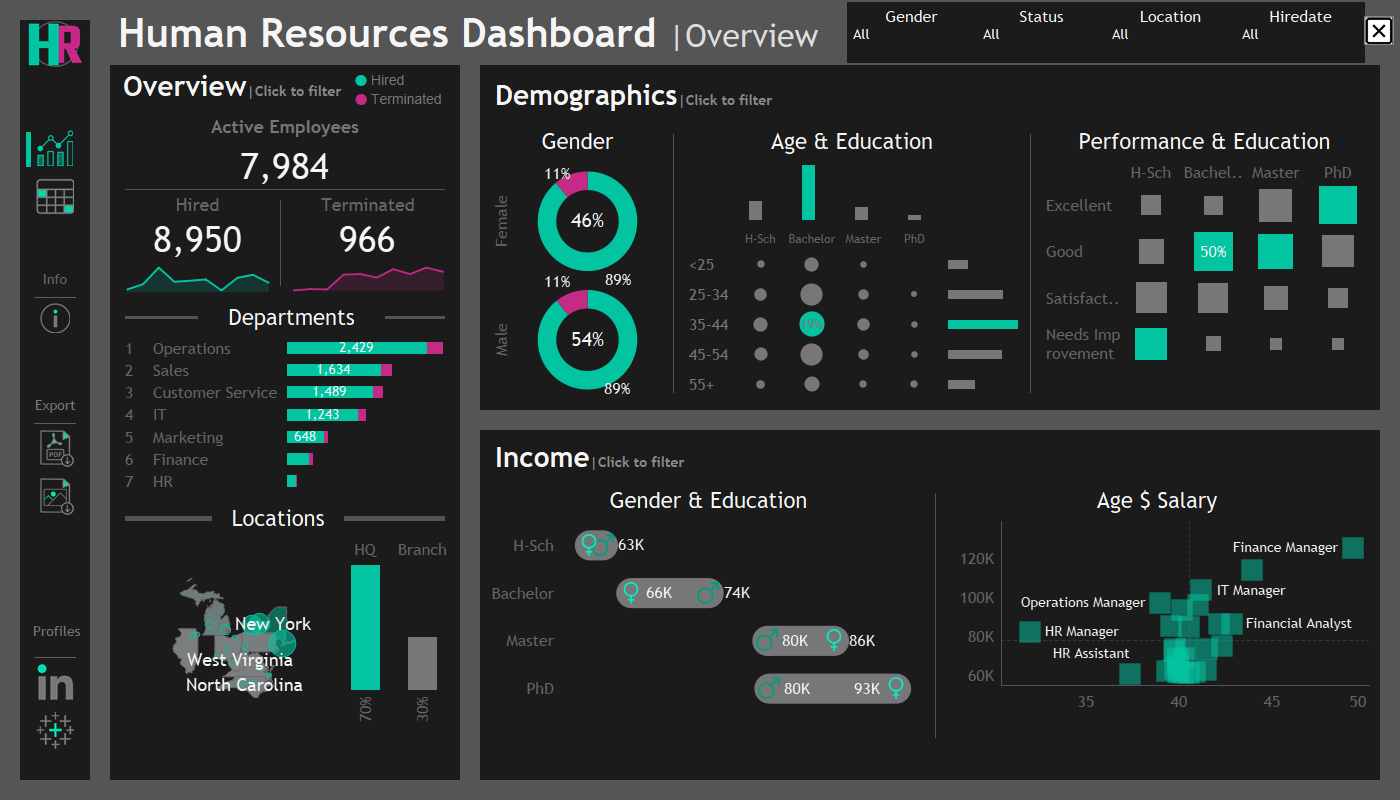

Layout of this report page (visuals, bound fields, positions):
{"tool":"tableau","page":{"name":"HR Summary","canvas":[1400,800],"ordinal":1},"visuals":[{"type":"text","box":[110,0,806,65]},{"type":"blank","box":[110,0,1271,242]},{"type":"blank","box":[916,0,464,65]},{"type":"filter","title":"Gender vs Education Level","param":"[federated.0ub95s50uokzi11g74zxb0s4wjce].[none:Gender:nk]","box":[847,2,129.5,61]},{"type":"filter","title":"Gender vs Education Level","param":"[federated.0ub95s50uokzi11g74zxb0s4wjce].[none:Calculation_681450935881695232:nk","box":[976.5,2,129.5,61]},{"type":"filter","title":"Gender vs Education Level","param":"[federated.0ub95s50uokzi11g74zxb0s4wjce].[none:Calculation_534520996257099781:nk","box":[1106,2,129.5,61]},{"type":"filter","title":"Gender vs Education Level","param":"[federated.0ub95s50uokzi11g74zxb0s4wjce].[yr:Hiredate:ok]","box":[1235.5,2,129.5,61]},{"type":"dashboard-object","box":[1364,16,30,29]},{"type":"image","param":"E:/DS/Projects/Tableau project/Tableau-HR-Project-Materials/HR Dashboard VJ.twb ","box":[20,20,70,47]},{"type":"text","box":[115,70,340,32]},{"type":"text","box":[487,72,886,47]},{"type":"text","box":[351,73,98,37]},{"type":"blank","box":[29,77,52,52]},{"type":"text","box":[115,102,340,44]},{"type":"text","box":[487,124,181,34]},{"type":"blank","box":[673,124,1,279]},{"type":"text","box":[679,124,346,34]},{"type":"blank","box":[1030,124,1,279]},{"type":"text","box":[1036,124,337,34]},{"type":"dashboard-object","box":[29,129,52,38]},{"type":"blank","box":[26,132,5,35]},{"type":"worksheet","title":"BAN Active","mark":"Text","box":[115,146,340,43]},{"type":"worksheet","title":"Gender","mark":"Pie","rows":["Gender"],"cols":["Calculation_534520996286849031","Calculation_534520996286849031"],"box":[487,158,181,245]},{"type":"worksheet","title":"Education Level","mark":"Bar","rows":["Calculation_534520995954655232"],"cols":["Education Level"],"box":[679,158,346,67]},{"type":"worksheet","title":"Education vs Performance","mark":"Square","rows":["Performance Rating"],"cols":["Education Level"],"box":[1036,158,337,213]},{"type":"blank","box":[29,167,52,10]},{"type":"dashboard-object","box":[29,177,52,38]},{"type":"blank","box":[115,189,340,1]},{"type":"text","box":[115,190,165,29]},{"type":"blank","box":[280,190,1,106]},{"type":"text","box":[281,190,173.9,29]},{"type":"blank","box":[29,215,52,52]},{"type":"worksheet","title":"BAN Hired","mark":"Text","box":[115,219,165,42]},{"type":"worksheet","title":"BAN Terminated","mark":"Text","box":[281,219,173.9,42]},{"type":"worksheet","title":"Age vs Education","mark":"Circle","rows":["Calculation_1150106770631680001"],"cols":["Education Level"],"box":[679,225,265,178]},{"type":"worksheet","title":"Age Group","mark":"Bar","rows":["Calculation_1150106770631680001"],"cols":["Calculation_534520995954655232"],"box":[944,225,81,178]},{"type":"text","box":[110,242,1271,315]},{"type":"worksheet","title":"Hired by year","mark":"Line","rows":["Calculation_534520995954655232","Calculation_534520995954655232"],"cols":["Hiredate"],"box":[115,261,165,35]},{"type":"worksheet","title":"Terminated by year","mark":"Line","rows":["Calculation_534520995955412993","Calculation_534520995955412993"],"cols":["Termdate"],"box":[281,261,173.9,35]},{"type":"text","box":[29,267,52,25]},{"type":"blank","box":[29,292,52,11]},{"type":"blank","box":[125,301,73,32]},{"type":"text","box":[198,301,187,32]},{"type":"blank","box":[385,301,60,32]},{"type":"dashboard-object","box":[29,303,52,30]},{"type":"blank","box":[29,333,52,60]},{"type":"worksheet","title":"Departments","mark":"Bar","rows":["Calculation_534520996254621700","Department"],"cols":["Calculation_534520995954655232"],"box":[115,333,340,163]},{"type":"text","box":[29,393,52,25]},{"type":"blank","box":[29,418,52,11]},{"type":"dashboard-object","box":[29,429,52,38]},{"type":"text","box":[487,437,886,41]},{"type":"blank","box":[29,467,52,10]},{"type":"dashboard-object","box":[29,477,52,38]},{"type":"text","box":[487,483,443,34]},{"type":"blank","box":[935,483,1,265]},{"type":"text","box":[941,483,432,34]},{"type":"blank","box":[125,501,87,34]},{"type":"text","box":[212,501,132,34]},{"type":"blank","box":[344,501,101,34]},{"type":"blank","box":[29,515,52,95]},{"type":"worksheet","title":"Gender vs Education Level","mark":"Square","rows":["Education Level"],"cols":["Salary","Salary"],"box":[487,517,443,199]},{"type":"worksheet","title":"Age vs Salary","mark":"Shape","rows":["Salary"],"cols":["Calculation_1150106770625998848"],"box":[941,517,432,199]},{"type":"worksheet","title":"Map State","mark":"Automatic","box":[115,535,218.4,199]},{"type":"worksheet","title":"Location","mark":"Bar","rows":["Calculation_534520995954655232"],"cols":["Calculation_534520996257099781","Calculation1"],"box":[333.4,535,121.6,199]},{"type":"blank","box":[110,557,1271,243]},{"type":"text","box":[29,610,52,42]},{"type":"blank","box":[29,652,52,11]},{"type":"image","param":"E:/DS/Projects/Tableau project/Tableau-HR-Project-Materials/HR Dashboard VJ.twb ","box":[29,663,52,38]},{"type":"blank","box":[29,701,52,10]},{"type":"image","param":"E:/DS/Projects/Tableau project/Tableau-HR-Project-Materials/HR Dashboard VJ.twb ","box":[29,711,52,38]}]}

Visuals, with their boxes in screenshot pixels (x1, y1, x2, y2), scaled from the page's 1400x800 canvas onto the 1400x800 screenshot:
text: box(110, 0, 916, 65)
blank: box(110, 0, 1381, 242)
blank: box(916, 0, 1380, 65)
"Gender vs Education Level" filter: box(847, 2, 976, 63)
"Gender vs Education Level" filter: box(976, 2, 1106, 63)
"Gender vs Education Level" filter: box(1106, 2, 1236, 63)
"Gender vs Education Level" filter: box(1236, 2, 1365, 63)
dashboard-object: box(1364, 16, 1394, 45)
image: box(20, 20, 90, 67)
text: box(115, 70, 455, 102)
text: box(487, 72, 1373, 119)
text: box(351, 73, 449, 110)
blank: box(29, 77, 81, 129)
text: box(115, 102, 455, 146)
text: box(487, 124, 668, 158)
blank: box(673, 124, 674, 403)
text: box(679, 124, 1025, 158)
blank: box(1030, 124, 1031, 403)
text: box(1036, 124, 1373, 158)
dashboard-object: box(29, 129, 81, 167)
blank: box(26, 132, 31, 167)
"BAN Active" worksheet (Text marks): box(115, 146, 455, 189)
"Gender" worksheet (Pie marks): box(487, 158, 668, 403)
"Education Level" worksheet (Bar marks): box(679, 158, 1025, 225)
"Education vs Performance" worksheet (Square marks): box(1036, 158, 1373, 371)
blank: box(29, 167, 81, 177)
dashboard-object: box(29, 177, 81, 215)
blank: box(115, 189, 455, 190)
text: box(115, 190, 280, 219)
blank: box(280, 190, 281, 296)
text: box(281, 190, 455, 219)
blank: box(29, 215, 81, 267)
"BAN Hired" worksheet (Text marks): box(115, 219, 280, 261)
"BAN Terminated" worksheet (Text marks): box(281, 219, 455, 261)
"Age vs Education" worksheet (Circle marks): box(679, 225, 944, 403)
"Age Group" worksheet (Bar marks): box(944, 225, 1025, 403)
text: box(110, 242, 1381, 557)
"Hired by year" worksheet (Line marks): box(115, 261, 280, 296)
"Terminated by year" worksheet (Line marks): box(281, 261, 455, 296)
text: box(29, 267, 81, 292)
blank: box(29, 292, 81, 303)
blank: box(125, 301, 198, 333)
text: box(198, 301, 385, 333)
blank: box(385, 301, 445, 333)
dashboard-object: box(29, 303, 81, 333)
blank: box(29, 333, 81, 393)
"Departments" worksheet (Bar marks): box(115, 333, 455, 496)
text: box(29, 393, 81, 418)
blank: box(29, 418, 81, 429)
dashboard-object: box(29, 429, 81, 467)
text: box(487, 437, 1373, 478)
blank: box(29, 467, 81, 477)
dashboard-object: box(29, 477, 81, 515)
text: box(487, 483, 930, 517)
blank: box(935, 483, 936, 748)
text: box(941, 483, 1373, 517)
blank: box(125, 501, 212, 535)
text: box(212, 501, 344, 535)
blank: box(344, 501, 445, 535)
blank: box(29, 515, 81, 610)
"Gender vs Education Level" worksheet (Square marks): box(487, 517, 930, 716)
"Age vs Salary" worksheet (Shape marks): box(941, 517, 1373, 716)
"Map State" worksheet: box(115, 535, 333, 734)
"Location" worksheet (Bar marks): box(333, 535, 455, 734)
blank: box(110, 557, 1381, 799)
text: box(29, 610, 81, 652)
blank: box(29, 652, 81, 663)
image: box(29, 663, 81, 701)
blank: box(29, 701, 81, 711)
image: box(29, 711, 81, 749)
